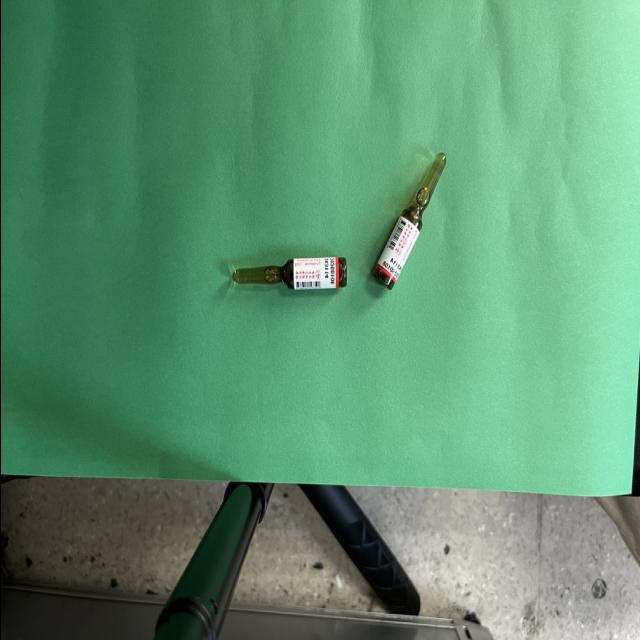Ampoules: (372, 153, 445, 290), (232, 258, 346, 290)
